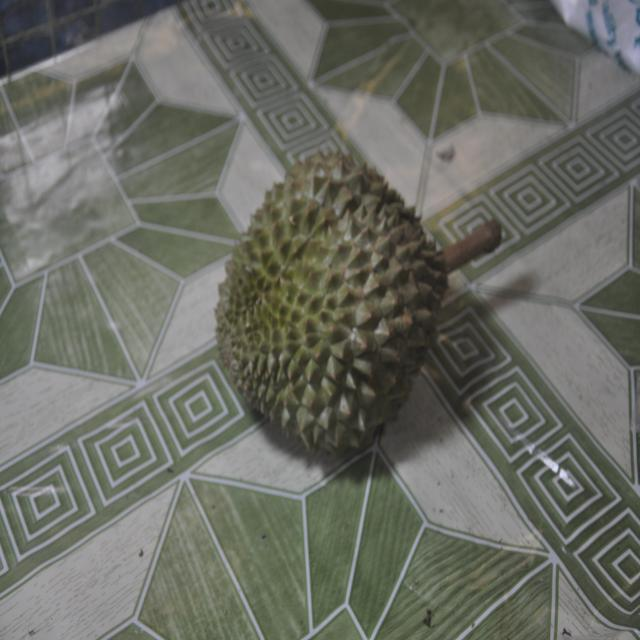mature: (215, 152, 447, 456)
